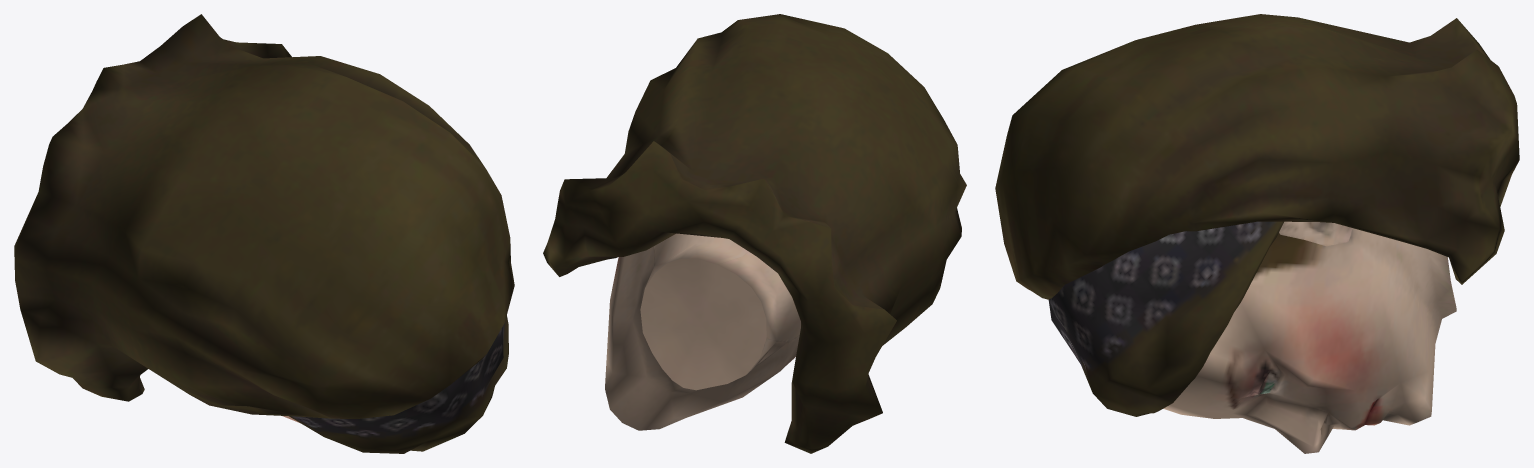
Rendered from dest_nt_nuked_female_02_head_LOD1.obj.
3 renders of one model, left to right at view 1: azimuth 30°, elevation 25°; view 2: azimuth 150°, elevation 25°; view 3: azimuth 270°, elevation 25°, orthographic. The views are drawn at different scales.
Parts seen in each view (by area): view 1: mtl_nt_2020_manne_fem01_hair1; view 2: mtl_nt_2020_manne_fem01_hair1, mtl_nt_2020_manne_fem01_head1; view 3: mtl_nt_2020_manne_fem01_hair1, mtl_nt_2020_manne_fem01_head1.
Boxes of the visible parts, x1,y1,x2,y2 form: mtl_nt_2020_manne_fem01_hair1: (14, 14, 514, 453); mtl_nt_2020_manne_fem01_hair1: (543, 14, 966, 453); mtl_nt_2020_manne_fem01_head1: (605, 233, 800, 430); mtl_nt_2020_manne_fem01_hair1: (995, 14, 1519, 416); mtl_nt_2020_manne_fem01_head1: (1163, 221, 1456, 453).
Size of the model in its own units: 27.87 by 26.14 by 32.78.
